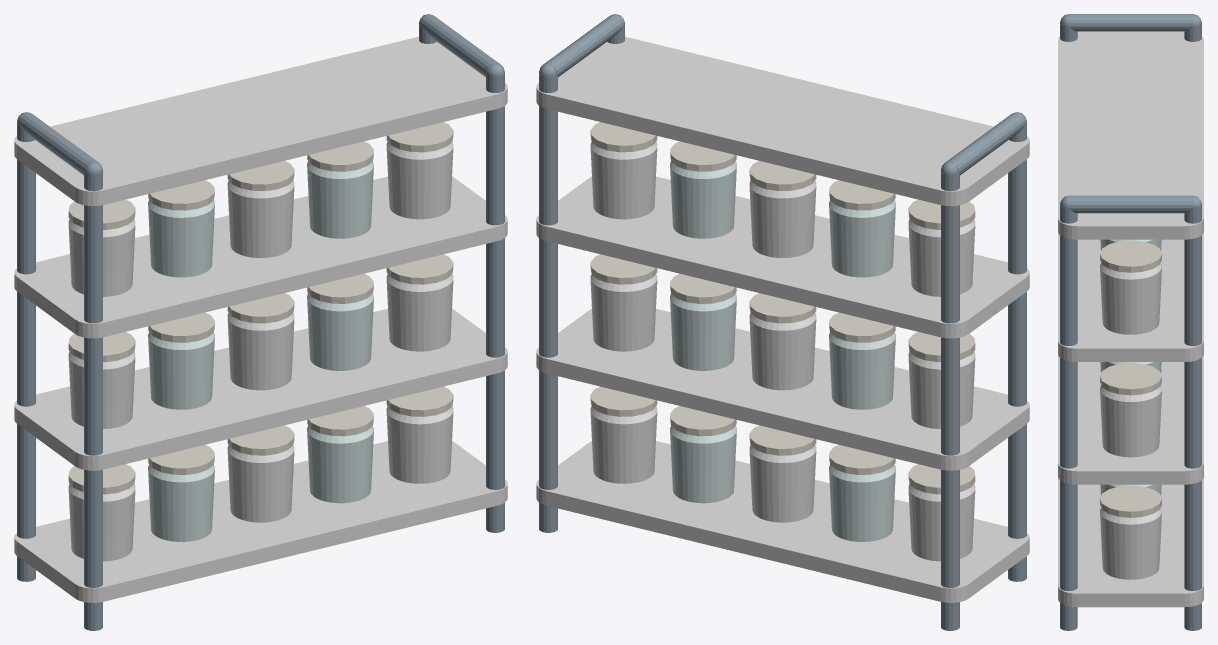
File: restaurant_pantry_shelf.glb
3 renders of one model, left to right at view 1: azimuth 30°, elevation 25°; view 2: azimuth 150°, elevation 25°; view 3: azimuth 270°, elevation 25°, orthographic. The views are drawn at different scales.
Parts seen in each view (by area): view 1: decor_d8dcd8_matte, decor_9bb7b5_matte, decor_455665_metal, decor_aaa493_matte; view 2: decor_d8dcd8_matte, decor_9bb7b5_matte, decor_455665_metal, decor_aaa493_matte; view 3: decor_d8dcd8_matte, decor_455665_metal, decor_aaa493_matte, decor_9bb7b5_matte.
Part boxes in pixels (x1,y1,x2,y2): decor_d8dcd8_matte: (14, 36, 507, 602); decor_9bb7b5_matte: (148, 161, 373, 541); decor_455665_metal: (17, 14, 504, 630); decor_aaa493_matte: (68, 122, 453, 494); decor_d8dcd8_matte: (536, 36, 1029, 602); decor_9bb7b5_matte: (670, 161, 895, 541); decor_455665_metal: (539, 14, 1026, 630); decor_aaa493_matte: (590, 122, 975, 494); decor_d8dcd8_matte: (1058, 32, 1203, 607); decor_455665_metal: (1060, 14, 1201, 630); decor_aaa493_matte: (1100, 240, 1161, 517); decor_9bb7b5_matte: (1100, 239, 1161, 495).
Bounding box in the file's own units: 1.7 × 1.76 × 0.54.
